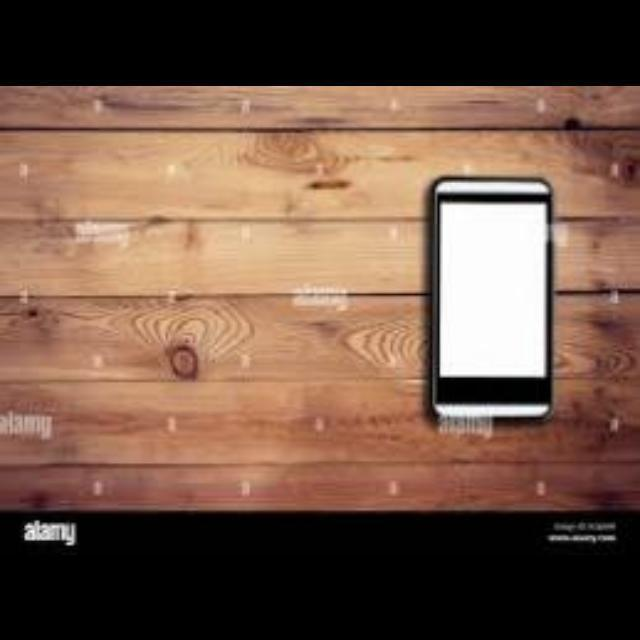phone: (429, 170, 553, 424)
